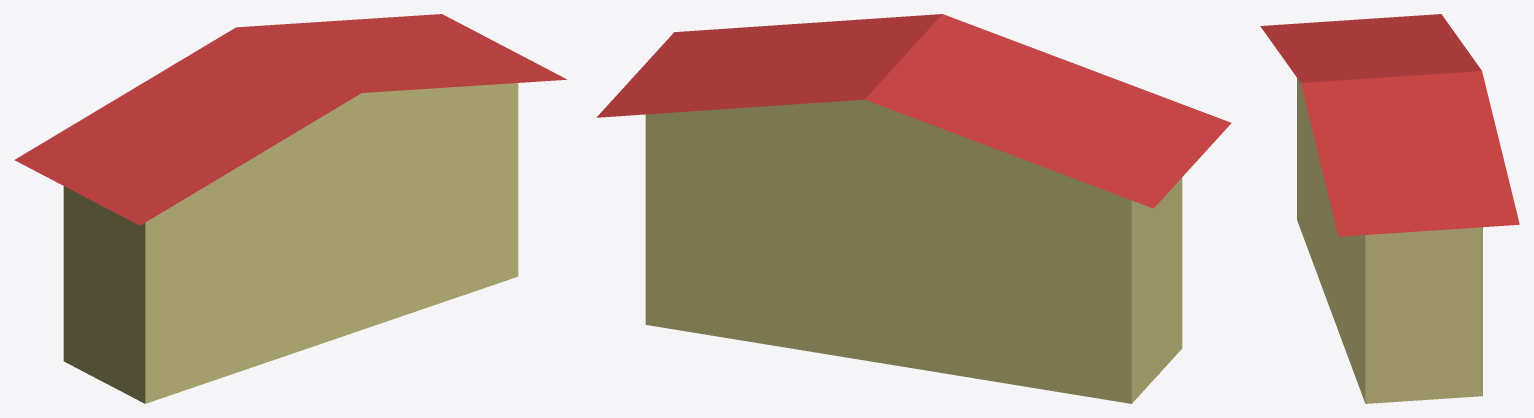
3 renders of one model, left to right at view 1: azimuth 30°, elevation 25°; view 2: azimuth 150°, elevation 25°; view 3: azimuth 270°, elevation 25°, orthographic. The views are drawn at different scales.
Size of the model in its own units: 16.29 by 8.03 by 8.02.
